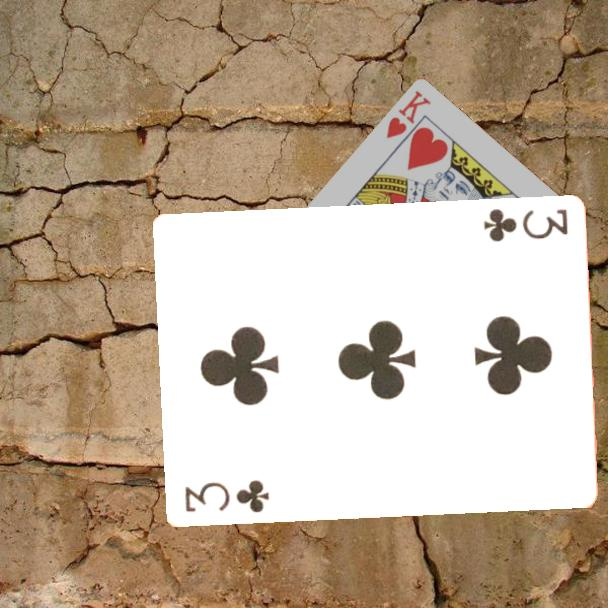c03: (181, 476, 272, 517), (479, 206, 570, 245)
h13: (383, 87, 434, 142)
